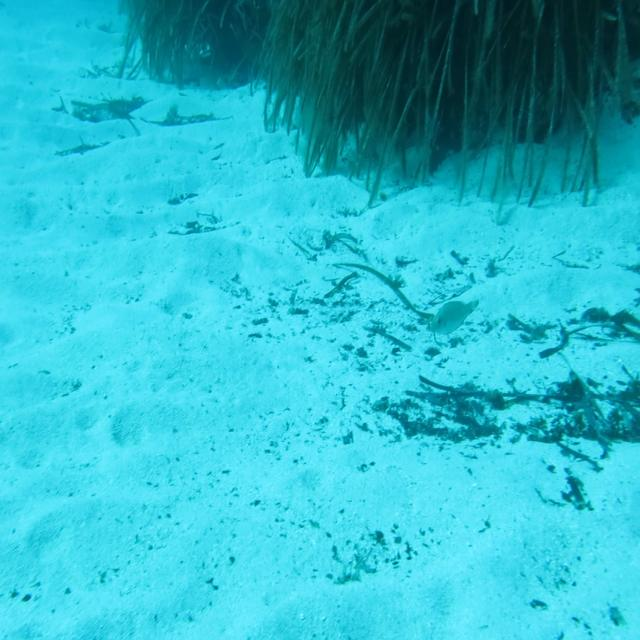AM: (429, 298, 481, 338)
vegetation: (120, 0, 640, 86), (271, 88, 603, 190), (380, 400, 640, 446), (426, 323, 436, 348)
